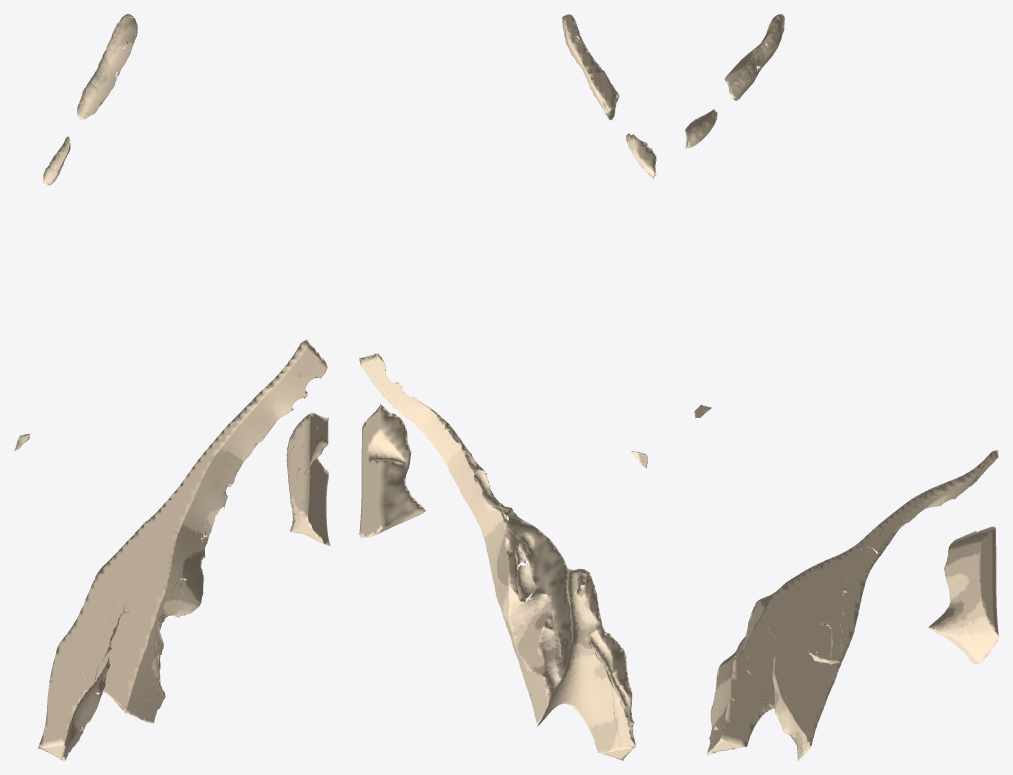
The model's file is Qnk1.gltf.
3 renders of one model, left to right at view 1: azimuth 30°, elevation 25°; view 2: azimuth 150°, elevation 25°; view 3: azimuth 330°, elevation 25°, orthographic. The views are drawn at different scales.
Visible parts, largest first — view 1: Switch_Switch_osgPicked_gmeGeoEntityGeode_Geometry_Geometry_ (×4); view 2: Switch_Switch_osgPicked_gmeGeoEntityGeode_Geometry_Geometry_ (×4); view 3: Switch_Switch_osgPicked_gmeGeoEntityGeode_Geometry_Geometry_ (×4).
Boxes of the visible parts, left/top/right/bottom form: Switch_Switch_osgPicked_gmeGeoEntityGeode_Geometry_Geometry_ (×4): left=38, top=14, right=330, bottom=760; Switch_Switch_osgPicked_gmeGeoEntityGeode_Geometry_Geometry_ (×4): left=359, top=14, right=656, bottom=760; Switch_Switch_osgPicked_gmeGeoEntityGeode_Geometry_Geometry_ (×4): left=685, top=14, right=998, bottom=760.
Size of what is drawn, in the model's own units: 26123 by 62031 by 4213.
